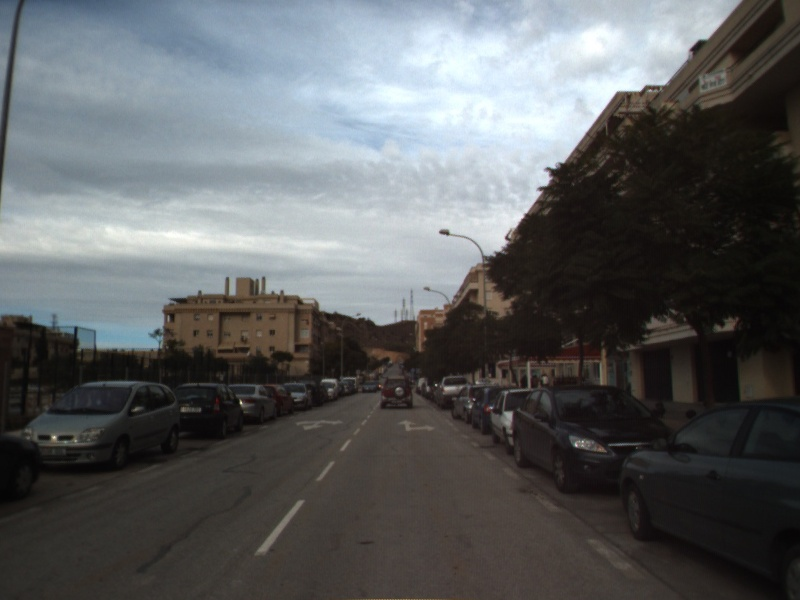STRAIGHT_RIGHT: (395, 418, 437, 434)
